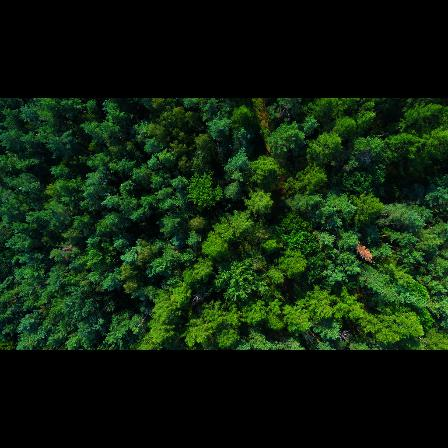Dead: (353, 242, 376, 263)
